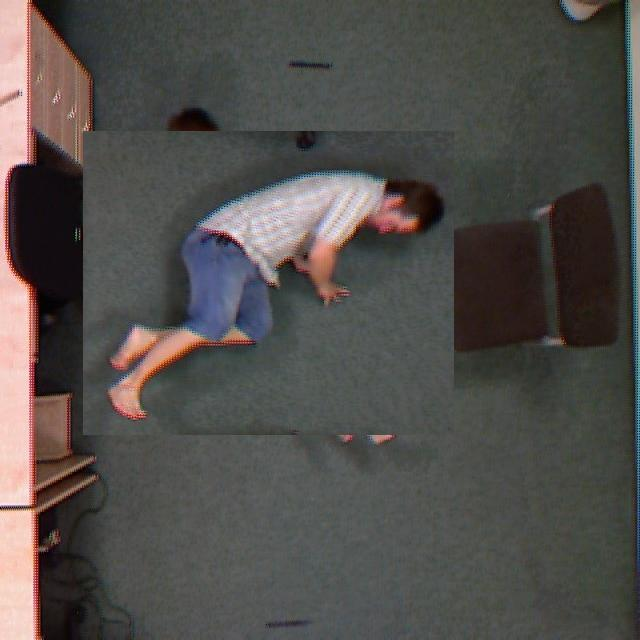Fall: (96, 128, 459, 439)
